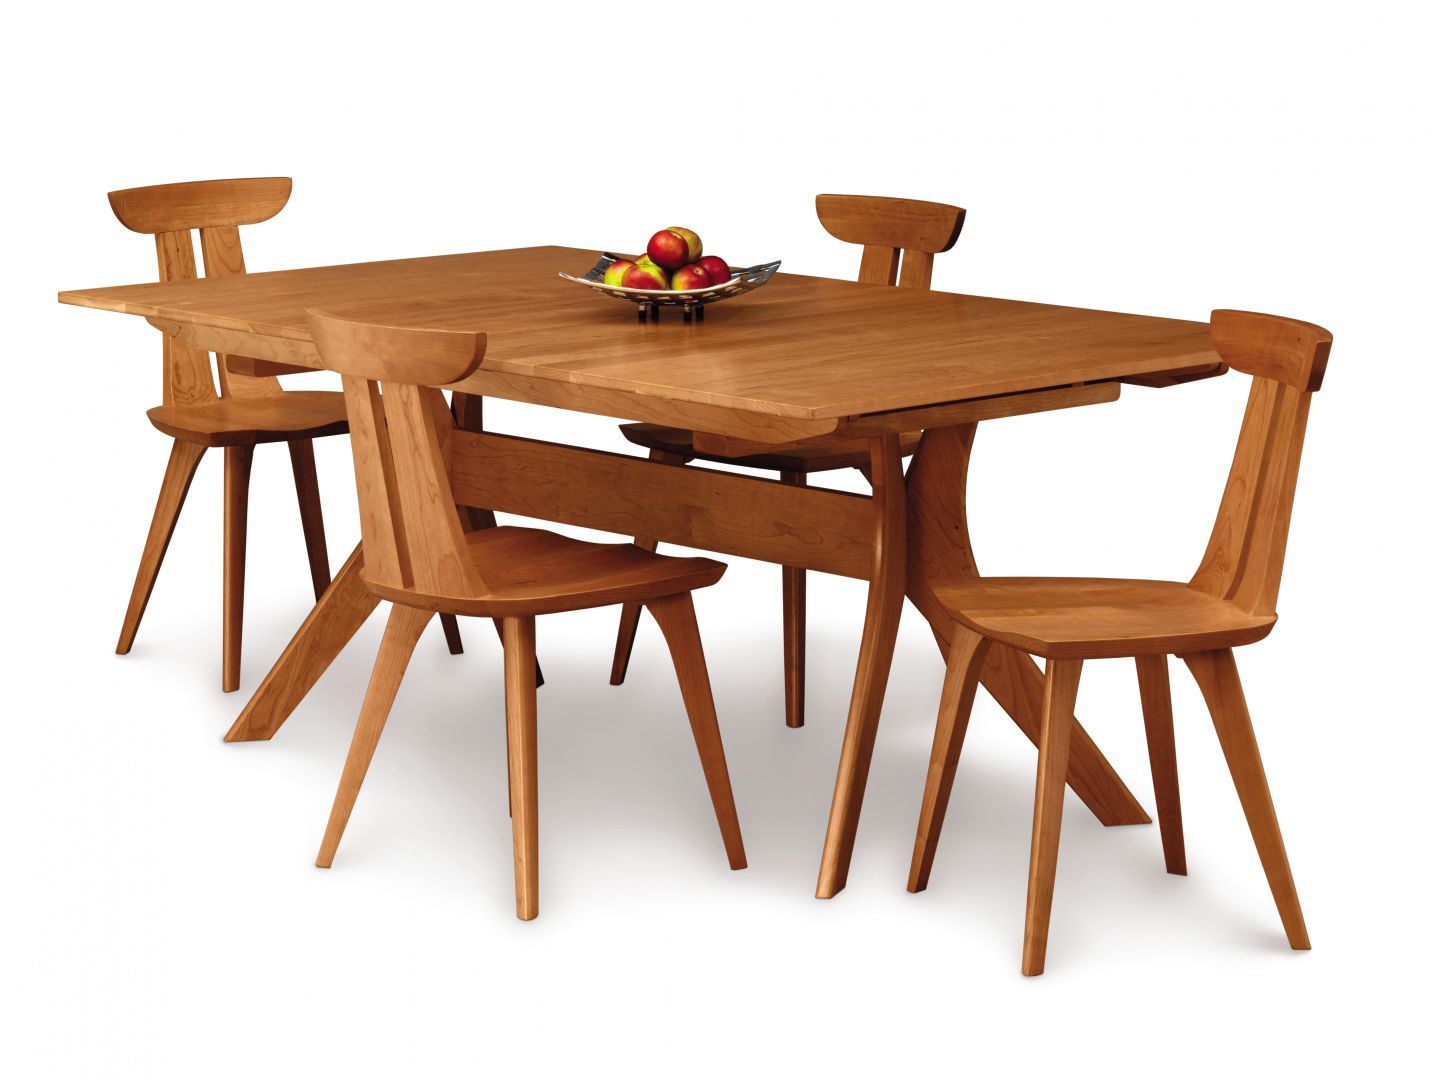seat: (903, 311, 1335, 976), (298, 295, 753, 920), (602, 189, 972, 727), (107, 178, 371, 693)
table: (63, 235, 1223, 828)
